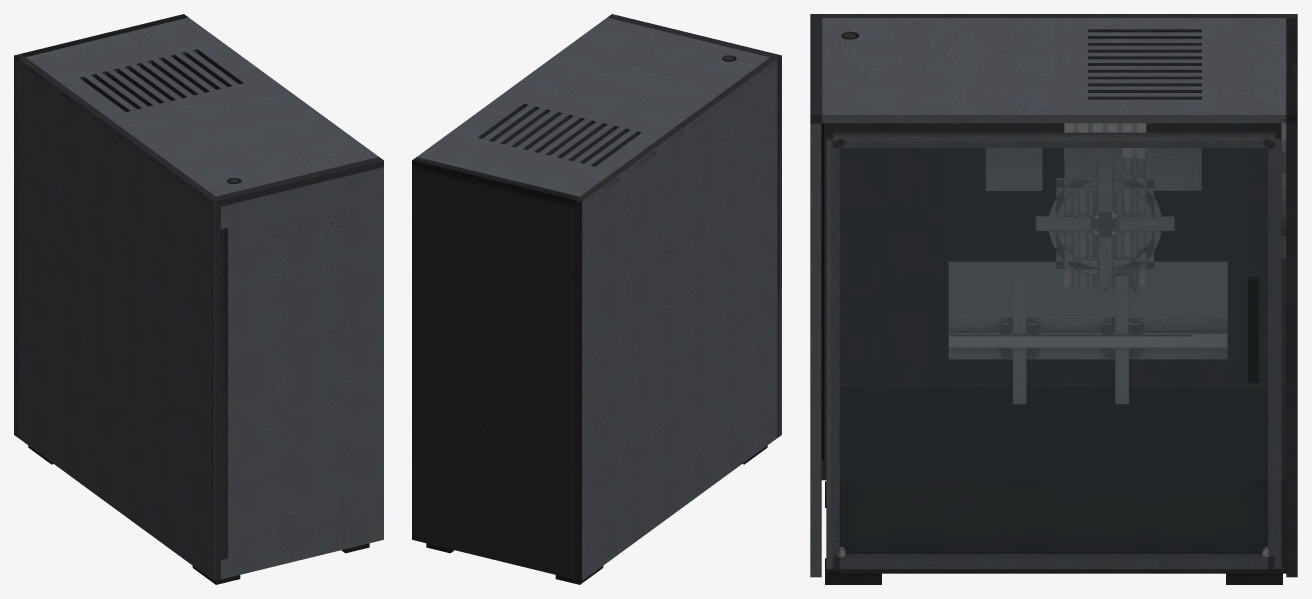
File: modern-d.glb
The picture shows the model from 3 angles, left to right: view 1: azimuth 30°, elevation 25°; view 2: azimuth 150°, elevation 25°; view 3: azimuth 270°, elevation 25°; orthographic projection. The views are drawn at different scales.
Parts seen in each view (by area): view 1: foot; view 2: foot; view 3: foot, window.
Boxes of the visible parts, <box> form: foot: <box>14,14,383,584</box>; foot: <box>412,14,781,584</box>; foot: <box>810,14,1297,584</box>; window: <box>831,139,1285,568</box>.
Size of the model in its own units: 0.21 by 0.46 by 0.428.
Materials: 2 (1 with a texture image).
